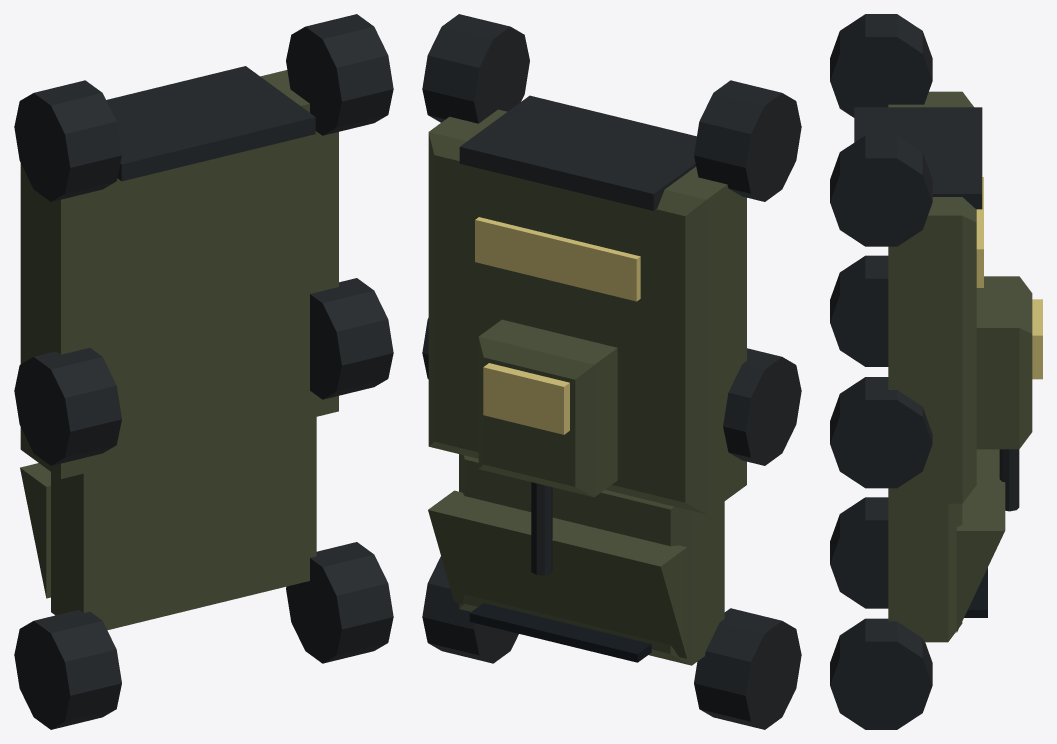
File: assault_vehicle.glb
The picture shows the model from 3 angles, left to right: view 1: azimuth 30°, elevation 25°; view 2: azimuth 150°, elevation 25°; view 3: azimuth 270°, elevation 25°; orthographic projection. The views are drawn at different scales.
Visible parts, largest first — view 1: Body; view 2: Body, Turret; view 3: Body, Turret.
Part boxes in pixels (x1,y1,x2,y2): Body: [14, 14, 393, 729]; Body: [422, 14, 801, 729]; Turret: [478, 319, 617, 575]; Body: [830, 14, 1005, 729]; Turret: [976, 276, 1042, 511].
Size of the model in its own units: 2.4 by 4.43 by 1.5.
